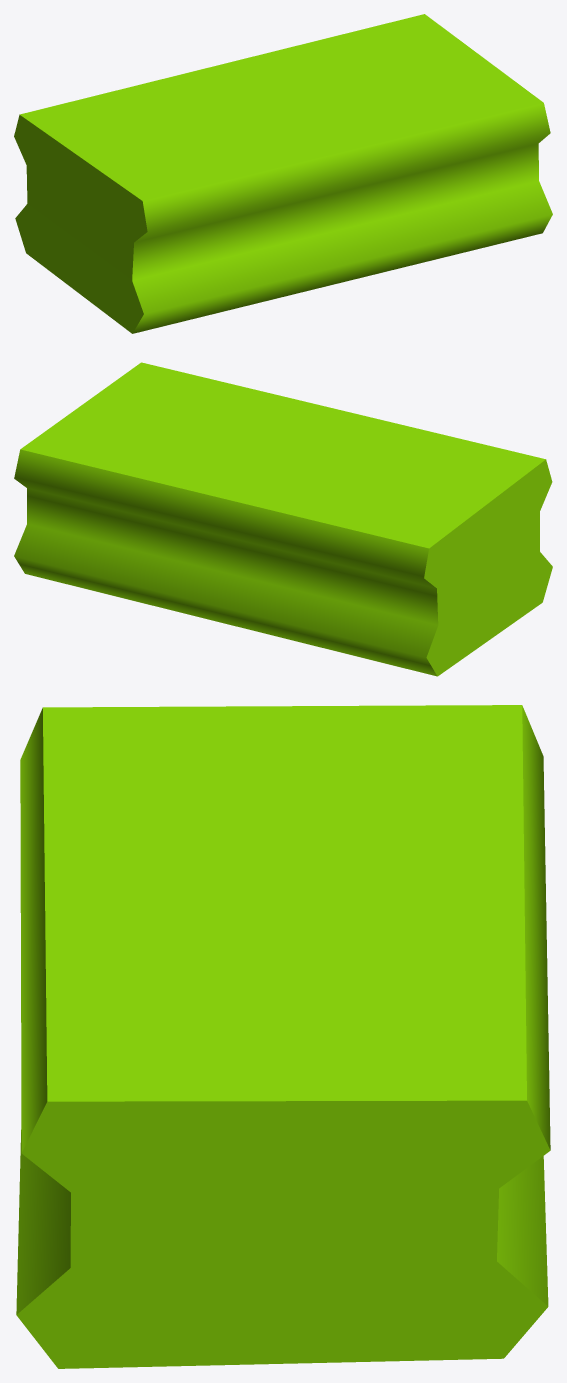
Rendered from Wall_Stone_01_B1_Lod3.fbx.
3 views of the same model, one above another, from view 1: azimuth 30°, elevation 25°; view 2: azimuth 150°, elevation 25°; view 3: azimuth 270°, elevation 25° (orthographic). The views are drawn at different scales.
Visible parts, largest first — view 1: Wall_Stone_01_B1_Lod3; view 2: Wall_Stone_01_B1_Lod3; view 3: Wall_Stone_01_B1_Lod3.
Part boxes in pixels (<box>): Wall_Stone_01_B1_Lod3: <box>14,14,552,333</box>; Wall_Stone_01_B1_Lod3: <box>14,362,552,676</box>; Wall_Stone_01_B1_Lod3: <box>16,705,550,1368</box>.
Bounding box in the file's own units: 278 × 89.09 × 157.
